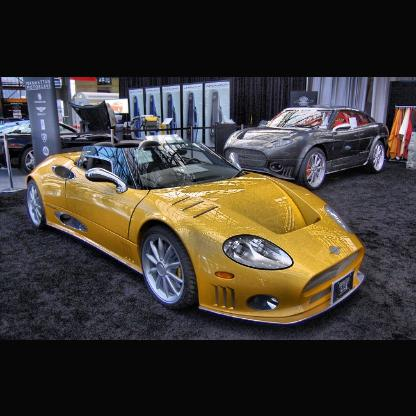Spyker C8 Convertible 2009: (26, 132, 366, 327)
